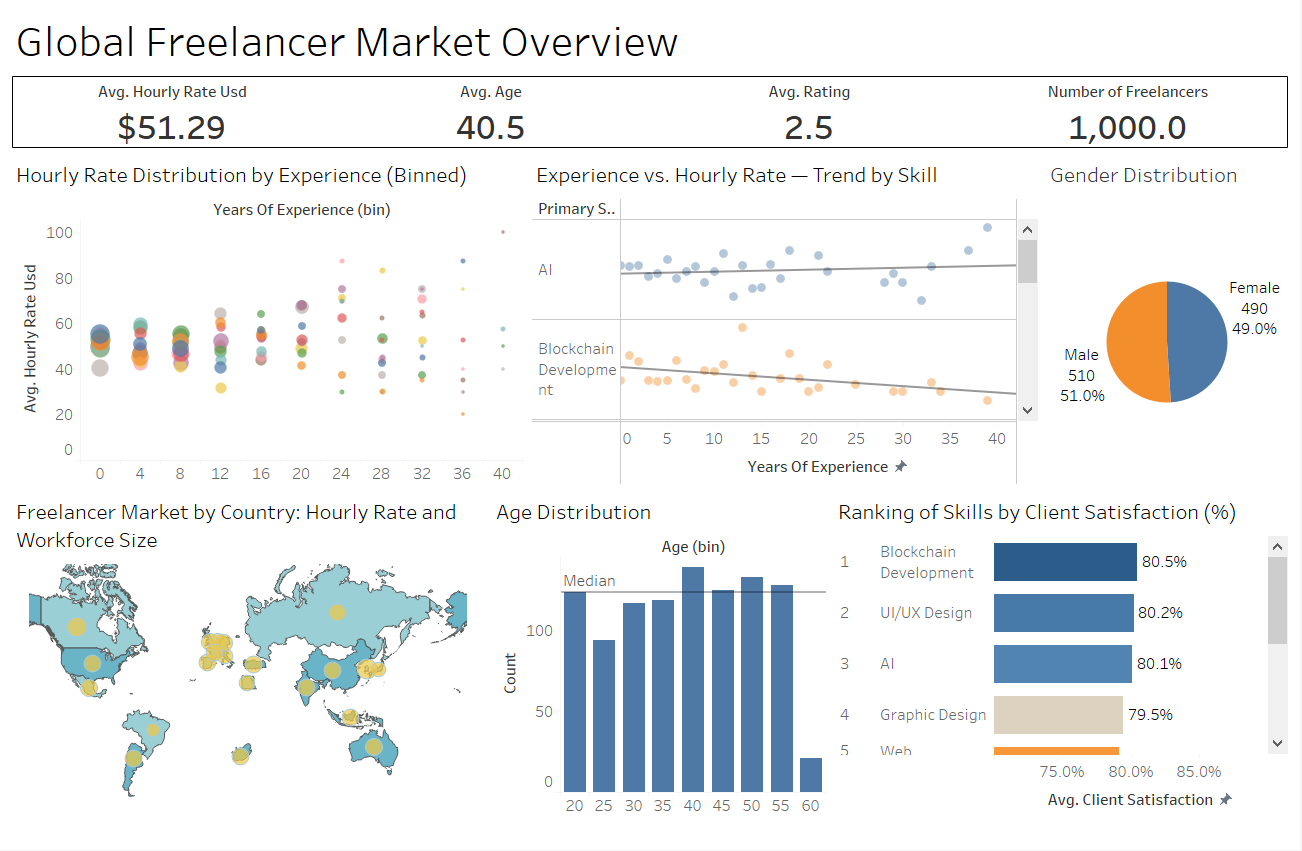

The page's visual inventory and layout, read from the dashboard file:
{"tool":"tableau","page":{"name":"Global Freelancer Market Overview","canvas":[1500,850],"ordinal":0},"visuals":[{"type":"title","box":[8,8,1484,64]},{"type":"worksheet","title":"KPI strip","mark":"Automatic","box":[8,72,1484,80]},{"type":"worksheet","title":"Hourly Rate Distribution by Experience (Binned)","mark":"Circle","rows":["hourly_rate_usd"],"cols":["Years Of Experience (bin)"],"box":[8,152,520,337]},{"type":"worksheet","title":"Experience vs. Hourly Rate Trends by Skill","mark":"Circle","rows":["primary_skill","hourly_rate_usd"],"cols":["years_of_experience"],"box":[528,152,514,337]},{"type":"worksheet","title":"Ranking of Skills by Client Satisfaction (%)","mark":"Automatic","rows":["Calculation_7560980879342092289","primary_skill"],"cols":["client_satisfaction"],"box":[1042,152,450,337]},{"type":"worksheet","title":"Freelancer Market by Country: Rate & Workforce Size","mark":"Automatic","box":[8,489,480,332]},{"type":"worksheet","title":"Global Freelancer Comparison by Country","mark":"Automatic","rows":["country"],"box":[488,489,396,332]},{"type":"worksheet","title":"Age Distribution","mark":"Automatic","rows":["age"],"cols":["Age (bin)"],"box":[884,489,342,332]},{"type":"worksheet","title":"Gender Distribution (Pie)","mark":"Pie","box":[1226,489,266,332]}]}

Visuals, with their boxes on the page's 1500x850 design canvas (x1, y1, x2, y2). These are canvas units, not pixel positions in the 1302x851 screenshot, which may show the page scaled, cropped or inside an application window:
title: 8,8,1492,72
"KPI strip" worksheet: 8,72,1492,152
"Hourly Rate Distribution by Experience (Binned)" worksheet (Circle marks): 8,152,528,489
"Experience vs. Hourly Rate Trends by Skill" worksheet (Circle marks): 528,152,1042,489
"Ranking of Skills by Client Satisfaction (%)" worksheet: 1042,152,1492,489
"Freelancer Market by Country: Rate & Workforce Size" worksheet: 8,489,488,821
"Global Freelancer Comparison by Country" worksheet: 488,489,884,821
"Age Distribution" worksheet: 884,489,1226,821
"Gender Distribution (Pie)" worksheet (Pie marks): 1226,489,1492,821
